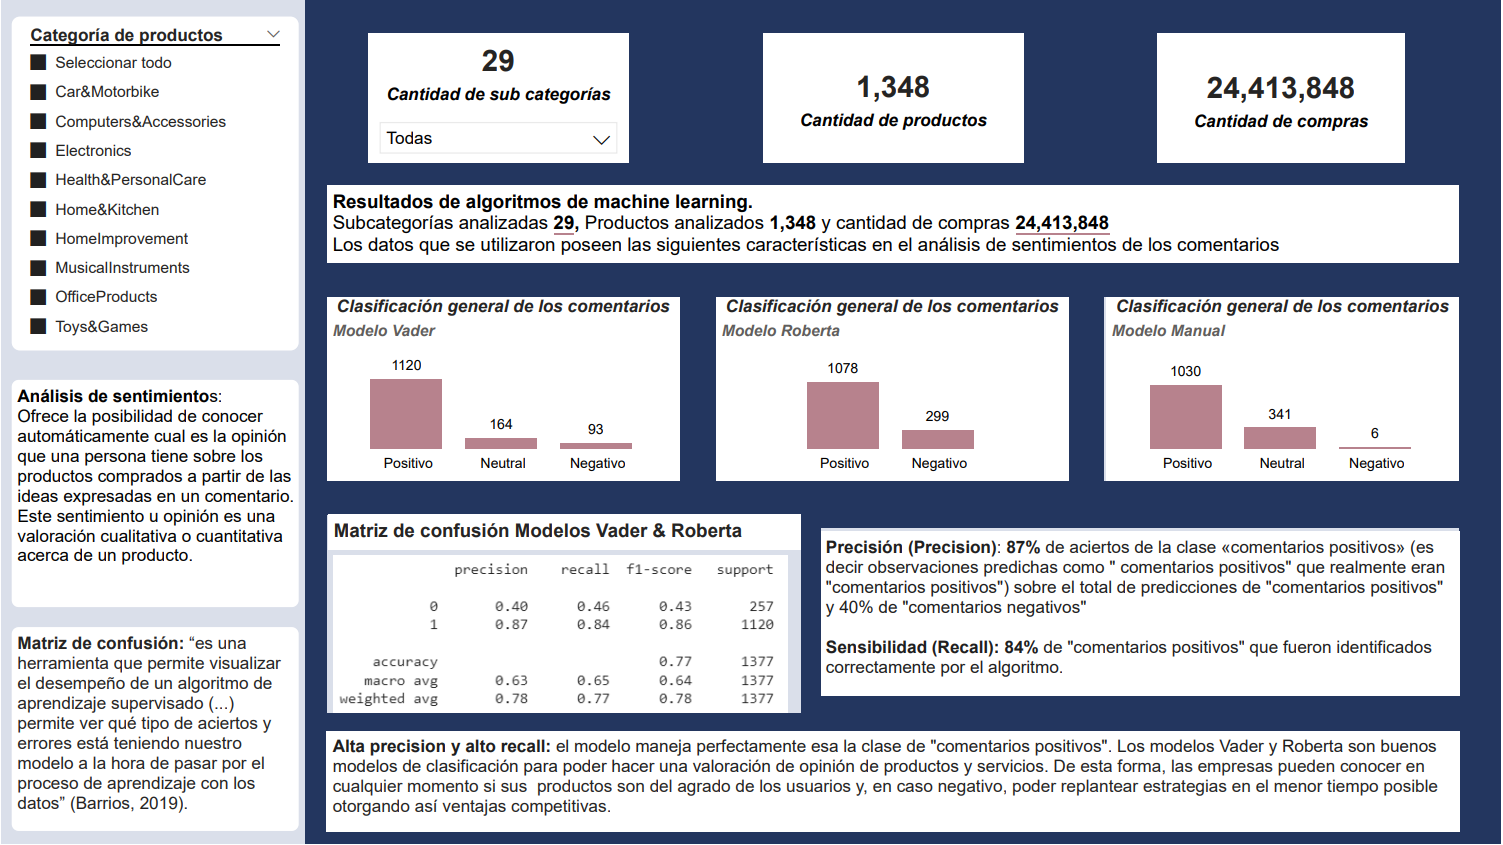

The page's visual inventory and layout, read from the dashboard file:
{"tool":"powerbi","page":{"name":"Vader&Roberta","canvas":[1280,720],"ordinal":1},"visuals":[{"type":"slicer","fields":{"Values":["13_rating_models_robertaVader.category"]},"box":[7.5,12.5,247.5,287.5],"z":0},{"type":"slicer","fields":{"Values":["13_rating_models_robertaVader.sub_category"]},"box":[312.5,93.8,223.8,45],"z":1000},{"type":"card","fields":{"Values":["13_rating_models_robertaVader.Toital productos"]},"box":[650,26.2,222.5,112.5],"z":2000},{"type":"card","fields":{"Values":["13_rating_models_robertaVader.Total sub categoría"]},"box":[312.5,26.2,223.8,67.5],"z":3000},{"type":"card","fields":{"Values":["13_rating_models_robertaVader.Total compras por subcategoría"]},"box":[986.2,27.5,212.5,111.2],"z":4000},{"type":"shape","box":[578.8,12.5,31.2,427.5],"z":5000},{"type":"shape","box":[260,0,1016.2,27.5],"z":6000},{"type":"shape","box":[262.5,138.8,1013.8,18.8],"z":7000},{"type":"shape","box":[911.2,0,30,415],"z":8000},{"type":"shape","box":[262.5,26.2,50,112.5],"z":9000},{"type":"shape","box":[536.2,26.2,113.8,112.5],"z":10000},{"type":"shape","box":[872.5,26.2,113.8,113.8],"z":11000},{"type":"shape","box":[1198.8,26.2,77.5,113.8],"z":12000},{"type":"columnChart","title":"Clasificación general de los comentarios","fields":{"Category":["13_rating_models_robertaVader.category_rating_vader"],"Y":["13_rating_models_robertaVader.category_rating_vader"]},"box":[277.5,252.5,301.2,158.8],"z":13000},{"type":"columnChart","title":"Clasificación general de los comentarios","fields":{"Category":["13_rating_models_robertaVader.category_rating_roberta"],"Y":["13_rating_models_robertaVader.category_rating_roberta"]},"box":[610,252.5,301.2,158.8],"z":14000},{"type":"columnChart","title":"Clasificación general de los comentarios","fields":{"Category":["13_rating_models_robertaVader.category_rating_page"],"Y":["13_rating_models_robertaVader.category_rating_page"]},"box":[942.5,252.5,301.2,158.8],"z":15000},{"type":"shape","box":[260,12.5,17.5,707.5],"z":16000},{"type":"textbox","box":[7.5,322.5,247.5,196.2],"z":17000},{"type":"shape","box":[262.5,411.2,1013.8,27.5],"z":18000},{"type":"textbox","box":[277.5,157.5,966.2,67.5],"z":19000},{"type":"shape","box":[277.5,225,998.8,27.5],"z":20000},{"type":"textbox","box":[278.8,438.8,405,30],"z":21000},{"type":"textbox","box":[7.5,533.8,247.5,176.2],"z":22000},{"type":"shape","box":[1245,0,35,715],"z":23000},{"type":"textbox","box":[698.8,452.5,546.2,145],"z":24000},{"type":"shape","box":[682.5,425,16.2,211.2],"z":25000},{"type":"textbox","box":[277.5,622.5,967.5,87.5],"z":26000},{"type":"shape","box":[698.8,593.8,577.5,28.8],"z":27000},{"type":"image","box":[263.8,468.8,427.5,153.8],"z":28000},{"type":"shape","box":[263.8,710,1016.2,10],"z":29000},{"type":"shape","box":[263.8,608.8,1016.2,13.8],"z":30000},{"type":"shape","box":[698.8,421.2,577.5,28.8],"z":31000}]}

Visuals, with their boxes in screenshot pixels (x1, y1, x2, y2), scaled from the page's 1280x720 canvas onto the 1503x845 screenshot:
slicer - 13_rating_models_robertaVader.category: locate(9, 15, 299, 352)
slicer - 13_rating_models_robertaVader.sub_category: locate(367, 110, 630, 163)
card - 13_rating_models_robertaVader.Toital productos: locate(763, 31, 1025, 163)
card - 13_rating_models_robertaVader.Total sub categoría: locate(367, 31, 630, 110)
card - 13_rating_models_robertaVader.Total compras por subcategoría: locate(1158, 32, 1408, 163)
shape: locate(680, 15, 716, 516)
shape: locate(305, 0, 1499, 32)
shape: locate(308, 163, 1499, 185)
shape: locate(1070, 0, 1105, 487)
shape: locate(308, 31, 367, 163)
shape: locate(630, 31, 763, 163)
shape: locate(1025, 31, 1158, 164)
shape: locate(1408, 31, 1499, 164)
"Clasificación general de los comentarios" columnChart: locate(326, 296, 680, 483)
"Clasificación general de los comentarios" columnChart: locate(716, 296, 1070, 483)
"Clasificación general de los comentarios" columnChart: locate(1107, 296, 1460, 483)
shape: locate(305, 15, 326, 844)
textbox: locate(9, 378, 299, 609)
shape: locate(308, 483, 1499, 515)
textbox: locate(326, 185, 1460, 264)
shape: locate(326, 264, 1499, 296)
textbox: locate(327, 515, 803, 550)
textbox: locate(9, 626, 299, 833)
shape: locate(1462, 0, 1502, 839)
textbox: locate(821, 531, 1462, 701)
shape: locate(801, 499, 820, 747)
textbox: locate(326, 731, 1462, 833)
shape: locate(821, 697, 1499, 731)
image: locate(310, 550, 812, 731)
shape: locate(310, 833, 1502, 844)
shape: locate(310, 714, 1502, 731)
shape: locate(821, 494, 1499, 528)
